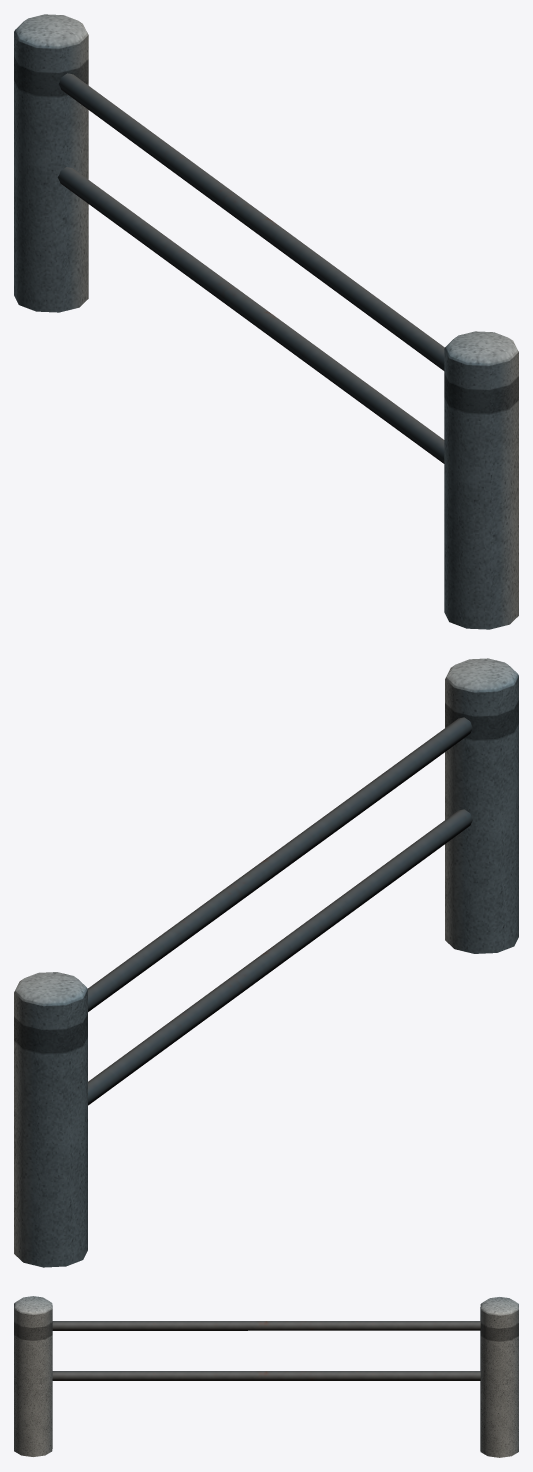
The model's file is Preset_BollardB.fbx.
3 renders of one model, top to bottom at view 1: azimuth 30°, elevation 25°; view 2: azimuth 150°, elevation 25°; view 3: azimuth 270°, elevation 25°, orthographic. The views are drawn at different scales.
Visible parts, largest first — view 1: PoleA, PoleB, PoleHD; view 2: PoleB, PoleA, PoleHD; view 3: PoleHD, PoleB, PoleA.
Boxes of the visible parts, bbox=[...] form: PoleA: bbox=[444, 331, 518, 629]; PoleB: bbox=[14, 14, 88, 312]; PoleHD: bbox=[57, 73, 444, 463]; PoleB: bbox=[14, 972, 87, 1267]; PoleA: bbox=[445, 658, 518, 953]; PoleHD: bbox=[88, 717, 472, 1105]; PoleHD: bbox=[52, 1321, 480, 1380]; PoleB: bbox=[480, 1297, 518, 1457]; PoleA: bbox=[14, 1296, 52, 1456].
Bounding box in the file's own units: 25.38 × 306 × 98.11.
Materials: 2 (2 with a texture image).
